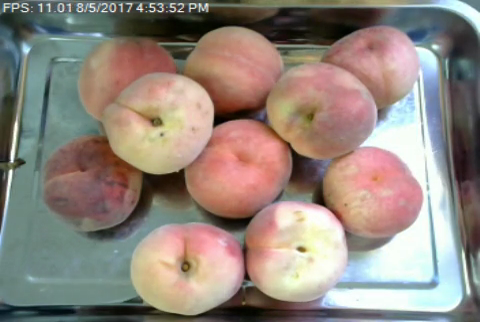Peach: (241, 199, 352, 304), (263, 62, 381, 160), (99, 72, 213, 173), (182, 119, 294, 218), (128, 224, 246, 315), (40, 133, 141, 230), (321, 146, 425, 238), (182, 26, 284, 113), (78, 34, 177, 119), (321, 24, 421, 106)
